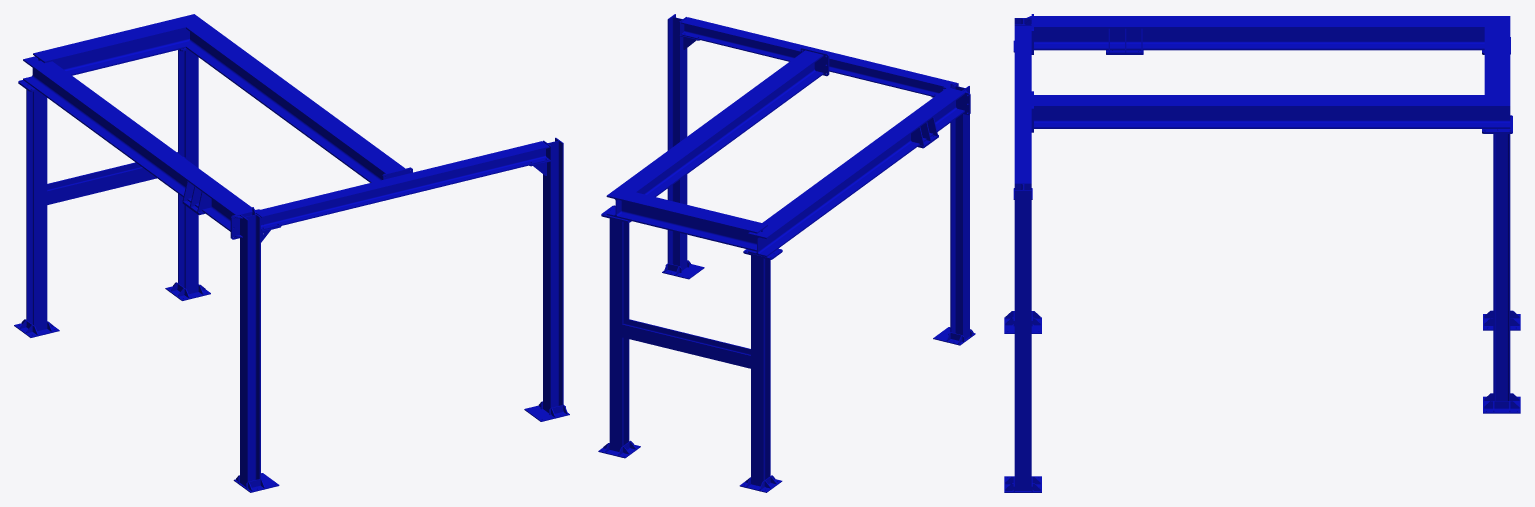
File: OT-2575 Instalacion_IDF_Vigas.dae
The picture shows the model from 3 angles, left to right: view 1: azimuth 30°, elevation 25°; view 2: azimuth 150°, elevation 25°; view 3: azimuth 270°, elevation 25°; orthographic projection. The views are drawn at different scales.
Visible parts, largest first — view 1: node0; view 2: node0; view 3: node0.
Boxes of the visible parts, x1,y1,x2,y2 form: node0: (14,14,569,492); node0: (598,14,975,492); node0: (1004,14,1520,492).
Size of the model in its own units: 3.94 by 4.82 by 3.16.
